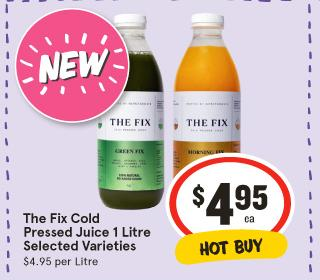description_block: (18, 204, 159, 256)
price_main: (176, 163, 283, 232)
product_image_block: (104, 12, 258, 161)
promo_text_block: (174, 235, 290, 264)
unit_price_block: (21, 254, 100, 270)
